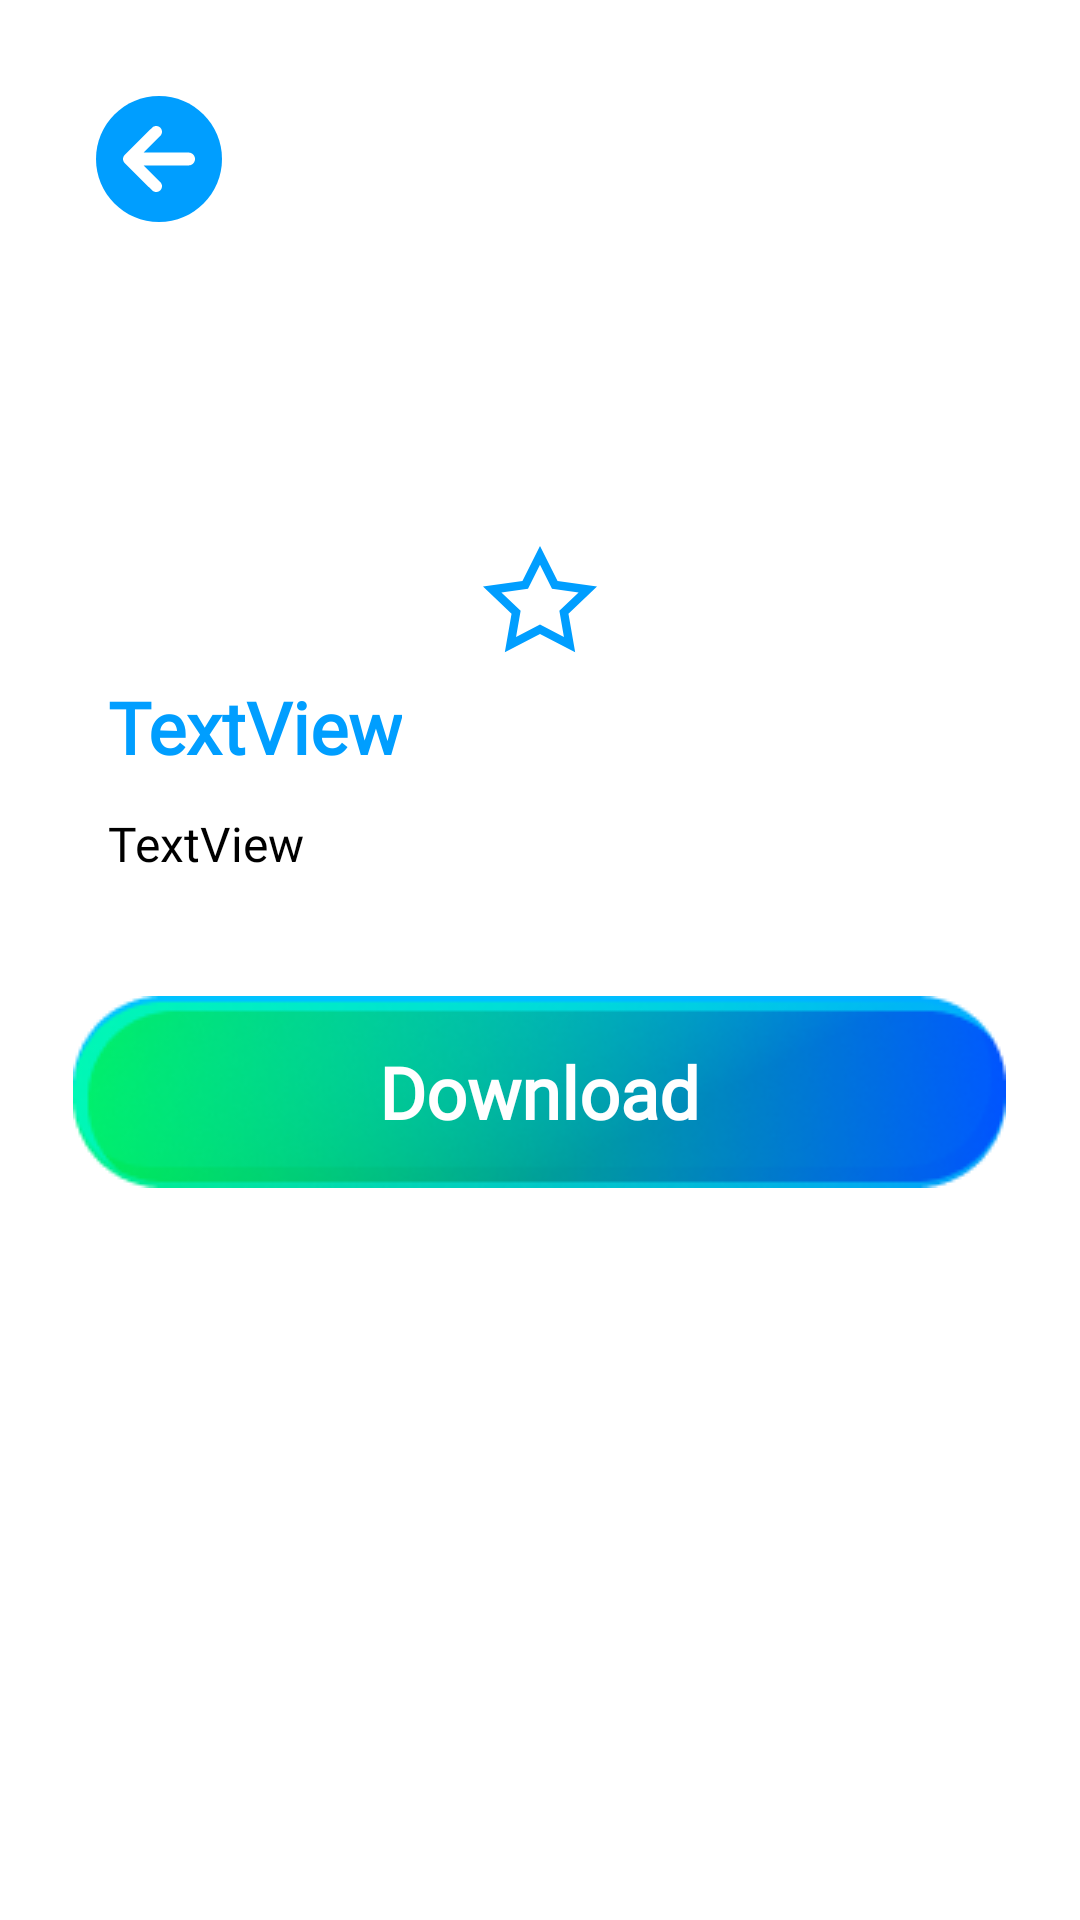

Where to tap for icons on this 1080px×1920px app screen, as (x=x, y=y):
back mods fig: (x=159, y=159)
